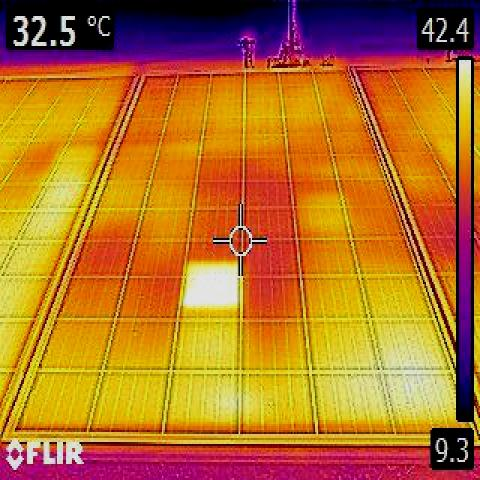fault: (187, 261, 237, 310)
